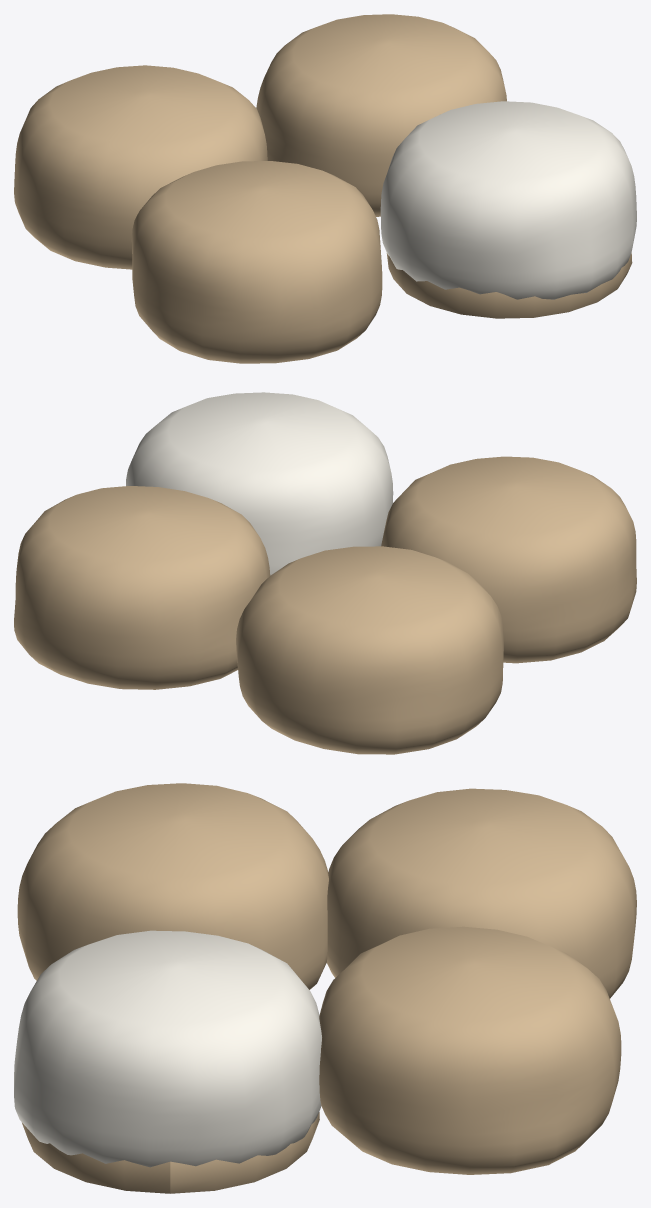
The model's file is fresh-produce-and-groceries-bread-rolls-1cf5ff85__24415.glb.
3 renders of one model, top to bottom at view 1: azimuth 30°, elevation 25°; view 2: azimuth 150°, elevation 25°; view 3: azimuth 270°, elevation 25°, orthographic. The views are drawn at different scales.
Parts seen in each view (by area): view 1: bread-rolls; view 2: bread-rolls; view 3: bread-rolls.
Boxes of the visible parts, <box> form: bread-rolls: <box>14,14,636,363</box>; bread-rolls: <box>14,392,636,754</box>; bread-rolls: <box>14,783,636,1193</box>.
Size of the model in its own units: 0.1772 by 0.05 by 0.1683.
